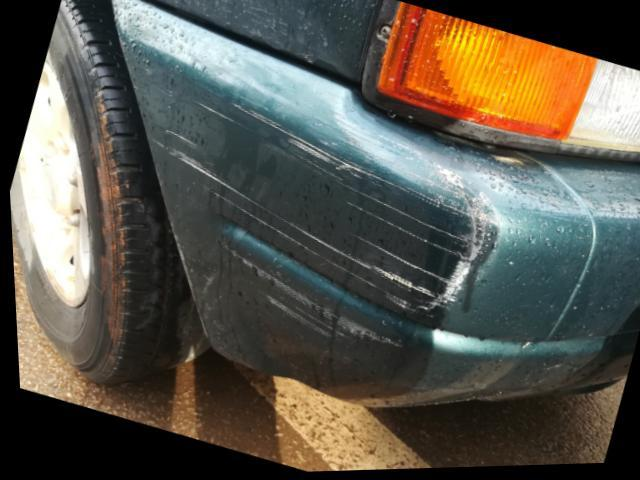scratch: (156, 87, 504, 358)
